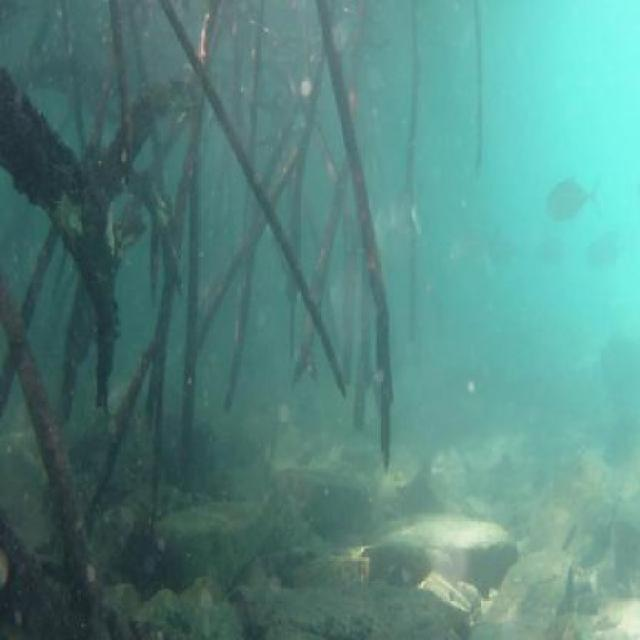Caranx_sexfasciatus_juvenile: (542, 172, 601, 230), (393, 174, 429, 243), (592, 229, 630, 280)
